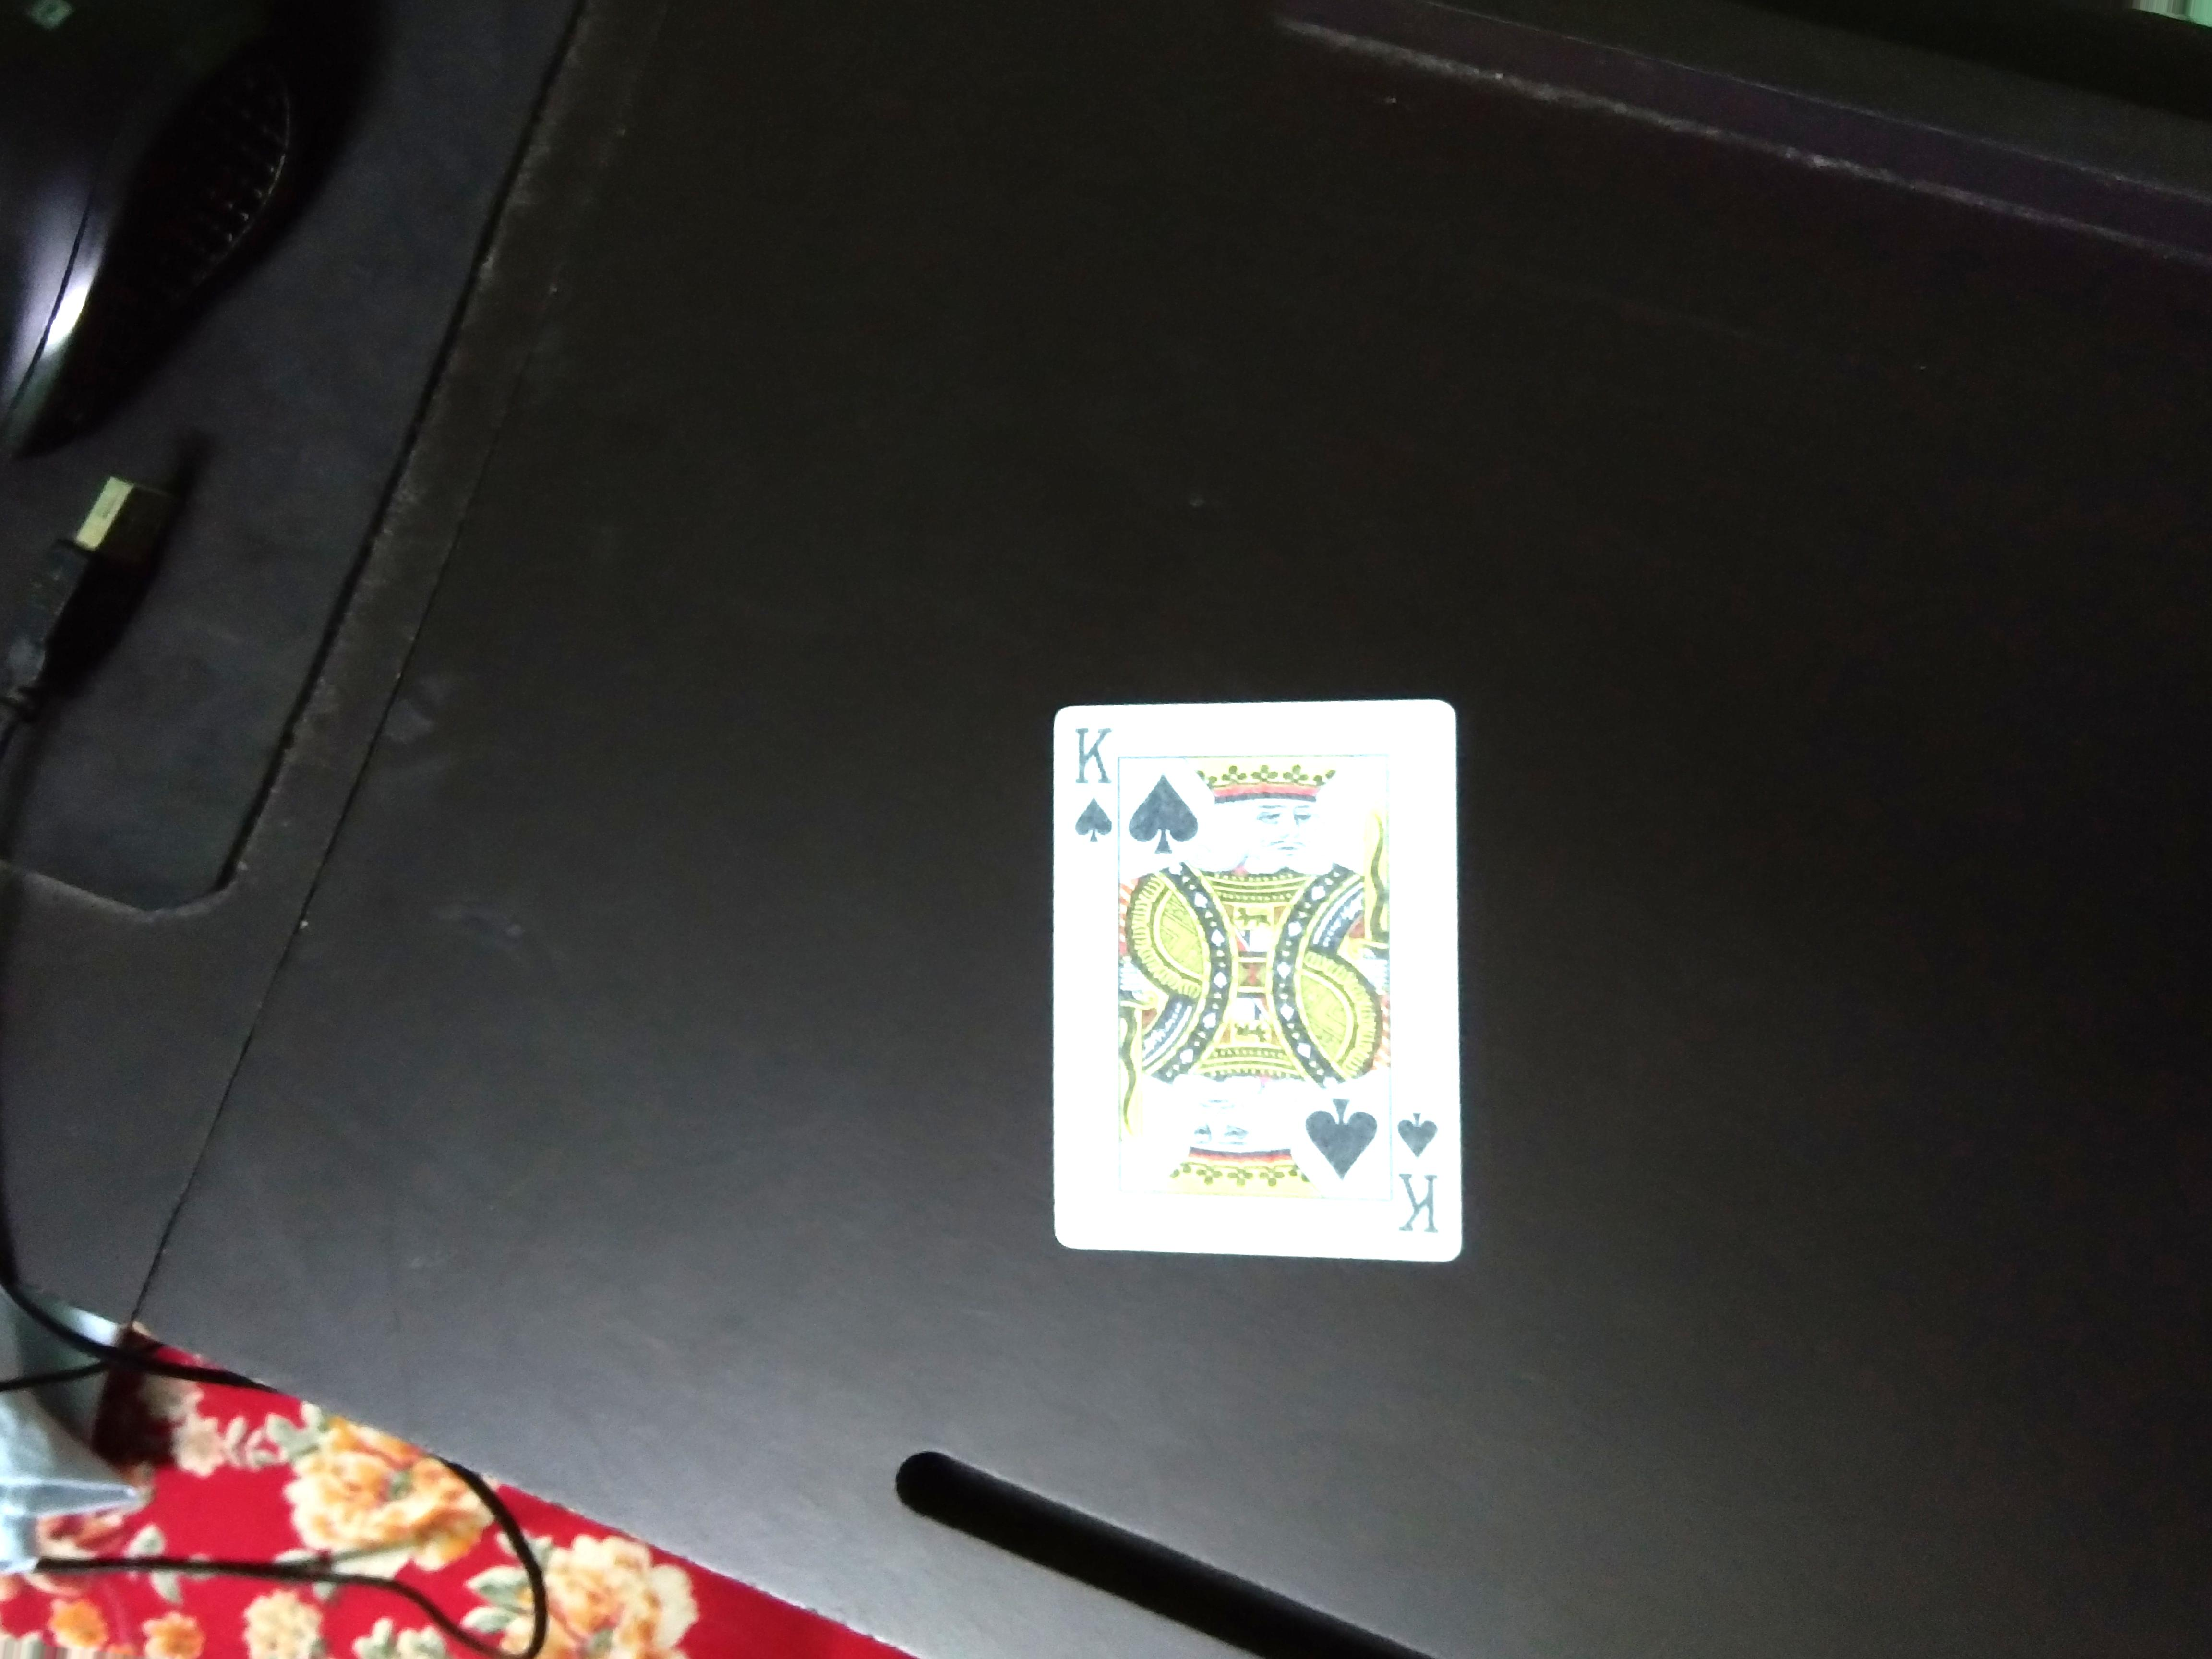KS: (1385, 1094, 1454, 1243)
